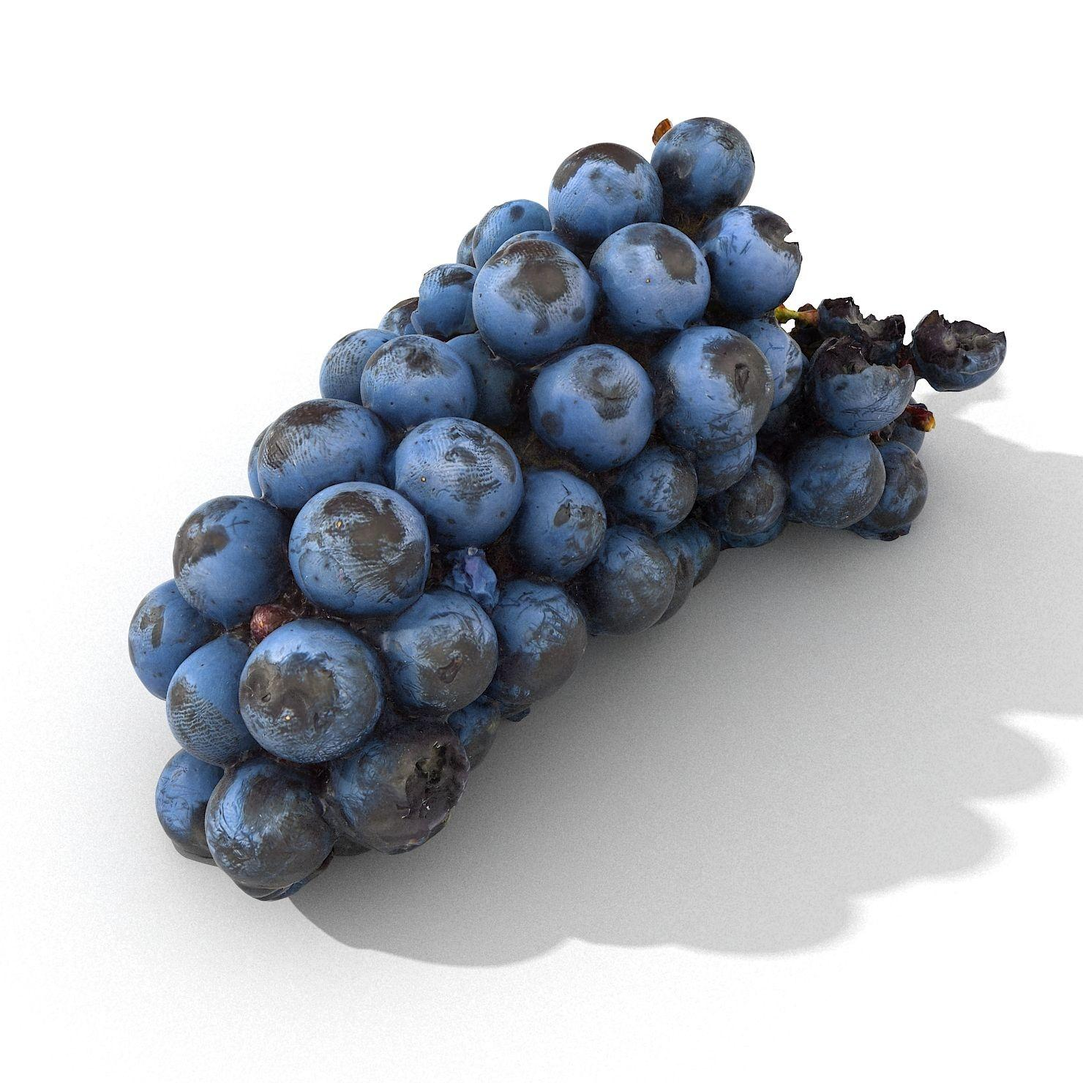Grape Rotten: (127, 114, 1007, 902)
